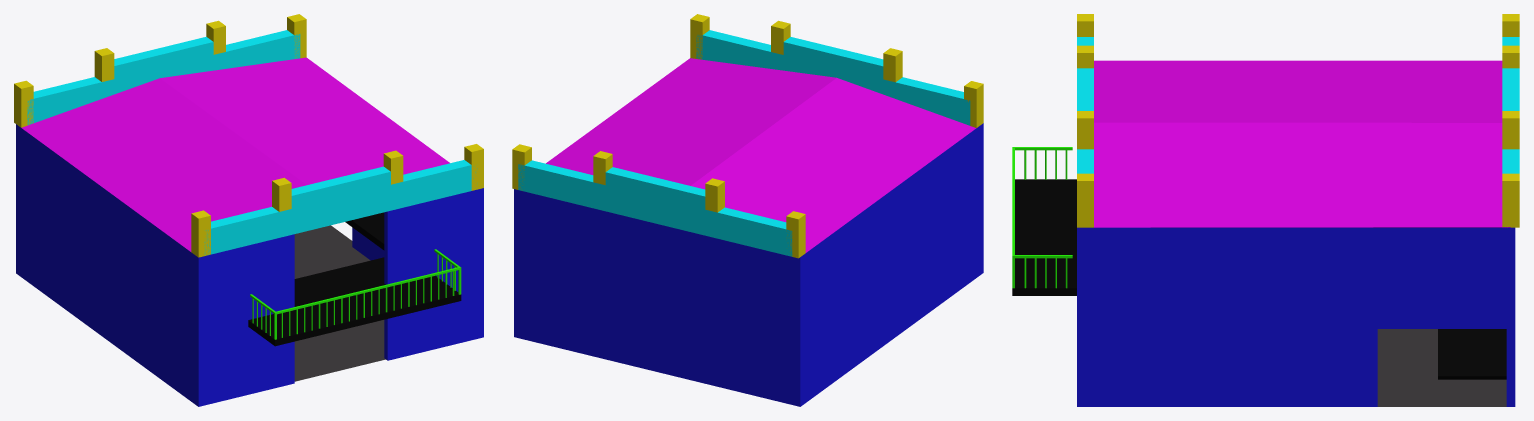
File: fabriek.fbx
3 views of the same model, side by side, from view 1: azimuth 30°, elevation 25°; view 2: azimuth 150°, elevation 25°; view 3: azimuth 270°, elevation 25° (orthographic). The views are drawn at different scales.
Visible parts, largest first — view 1: Cube.011, Cube.003, Cube, Cube.001, Cube.010, Cube.018, Plane, Cube.022, Cube.019, Cube.025, Cube.004, Cylinder.002 (+11 smaller); view 2: Cube.002, Cube.011, Cube.003, Cube.022, Cube.018, Cube.019, Cube.025, Cube.023, Cube.016, Cube.017, Cube.021, Cube.026 (+3 smaller); view 3: Cube.011, Cube.004, Cube.008, Cube.010, Plane, Cube.005, Cube.002, Cube.024, Cube.017, Cube.025, Cube.019, Cube.027 (+3 smaller).
Boxes of the visible parts, left/top/right/bottom form: Cube.011: left=21, top=57, right=449, bottom=251; Cube.003: left=19, top=127, right=204, bottom=406; Cube: left=201, top=234, right=294, bottom=405; Cube.001: left=384, top=189, right=480, bottom=360; Cube.010: left=248, top=257, right=461, bottom=346; Cube.018: left=204, top=160, right=477, bottom=255; Plane: left=294, top=225, right=385, bottom=381; Cube.022: left=27, top=30, right=300, bottom=124; Cube.019: left=291, top=166, right=390, bottom=208; Cube.025: left=114, top=36, right=213, bottom=78; Cube.004: left=352, top=188, right=483, bottom=337; Cylinder.002: left=281, top=271, right=454, bottom=337; Cube.002: left=514, top=189, right=803, bottom=406; Cube.011: left=546, top=58, right=976, bottom=252; Cube.003: left=804, top=123, right=983, bottom=403; Cube.022: left=518, top=160, right=792, bottom=256; Cube.018: left=696, top=30, right=970, bottom=125; Cube.019: left=783, top=37, right=883, bottom=79; Cube.025: left=605, top=167, right=705, bottom=209; Cube.023: left=786, top=211, right=805, bottom=258; Cube.016: left=964, top=81, right=983, bottom=127; Cube.017: left=690, top=14, right=709, bottom=59; Cube.021: left=883, top=48, right=902, bottom=82; Cube.026: left=705, top=178, right=724, bottom=212; Cube.011: left=1094, top=60, right=1510, bottom=227; Cube.004: left=1077, top=227, right=1377, bottom=406; Cube.008: left=1377, top=227, right=1514, bottom=328; Cube.010: left=1012, top=179, right=1076, bottom=295; Plane: left=1377, top=329, right=1506, bottom=406; Cube.005: left=1438, top=329, right=1506, bottom=379; Cube.002: left=1506, top=227, right=1515, bottom=406; Cube.024: left=1502, top=173, right=1519, bottom=227; Cube.017: left=1077, top=173, right=1093, bottom=227; Cube.025: left=1502, top=68, right=1519, bottom=110; Cube.019: left=1077, top=68, right=1093, bottom=110; Cube.027: left=1502, top=111, right=1519, bottom=149.
Size of the model in its own units: 9200 by 6278 by 11800.
